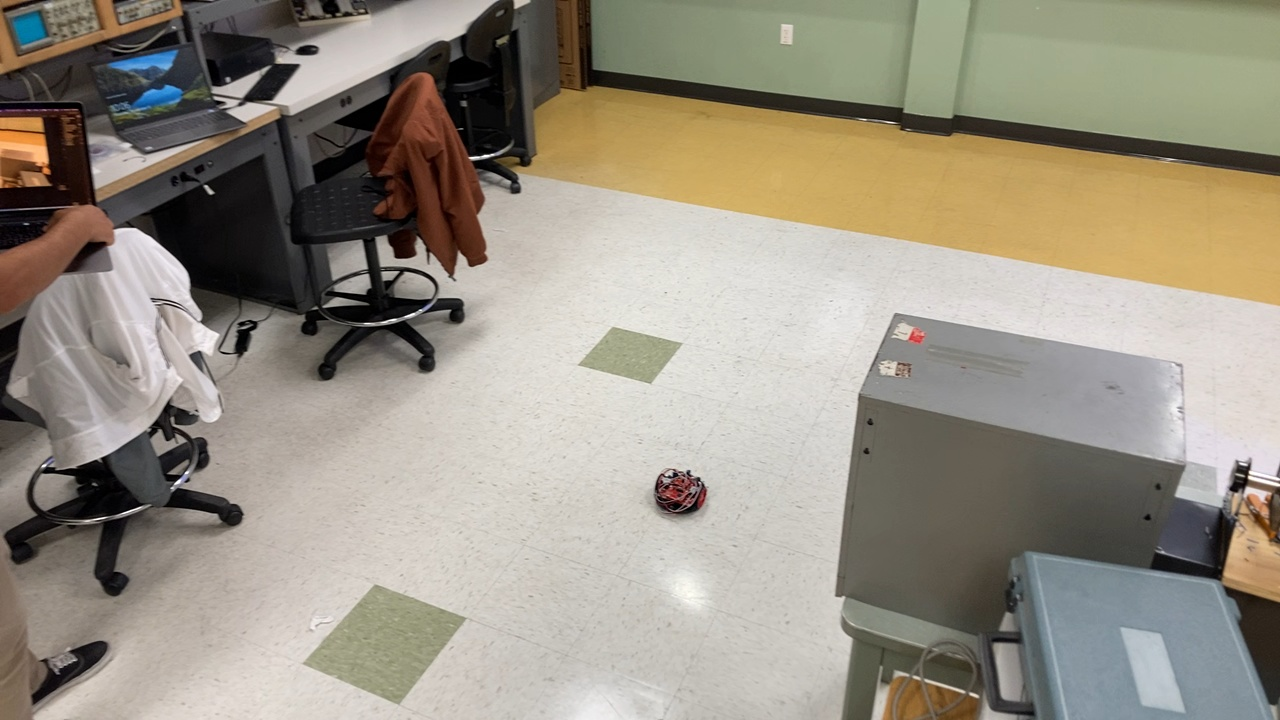robot: (653, 464, 709, 517)
